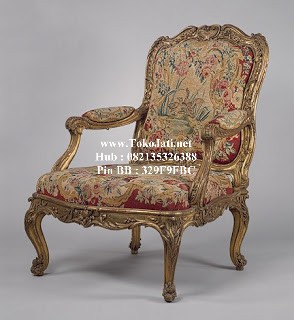Carving Chair: (43, 30, 256, 282)
